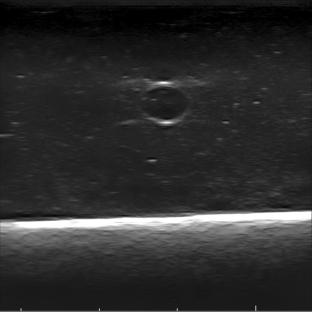vessel: (138, 80, 190, 125)
